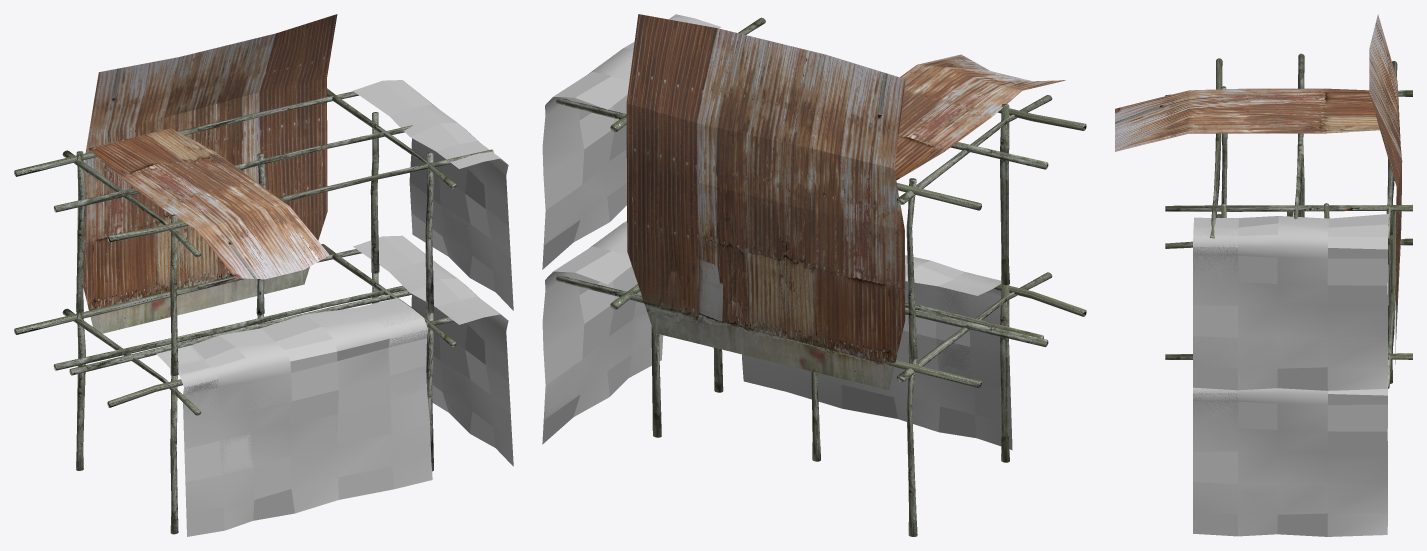
Rendered from shanty19.fbx.
3 renders of one model, left to right at view 1: azimuth 30°, elevation 25°; view 2: azimuth 150°, elevation 25°; view 3: azimuth 270°, elevation 25°, orthographic. The views are drawn at different scales.
Parts seen in each view (by area): view 1: shanty19; view 2: shanty19; view 3: shanty19.
Boxes of the visible parts, box(x1,y1,x2,y2) form: shanty19: box(14, 14, 513, 536); shanty19: box(542, 14, 1086, 536); shanty19: box(1115, 14, 1412, 536).
Bounding box in the file's own units: 226 × 212 × 153.
